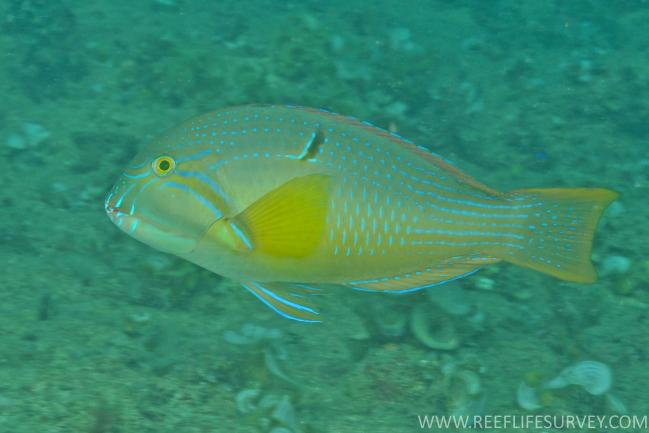fish: (106, 104, 618, 324)
